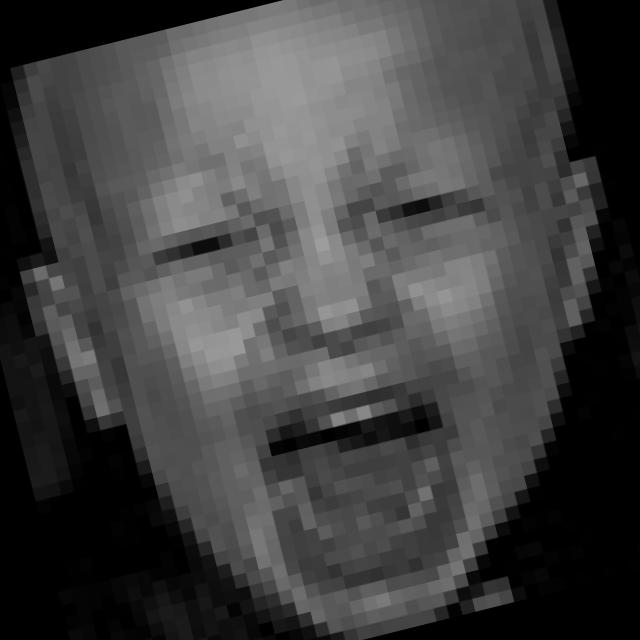angry: (120, 126, 583, 627)
